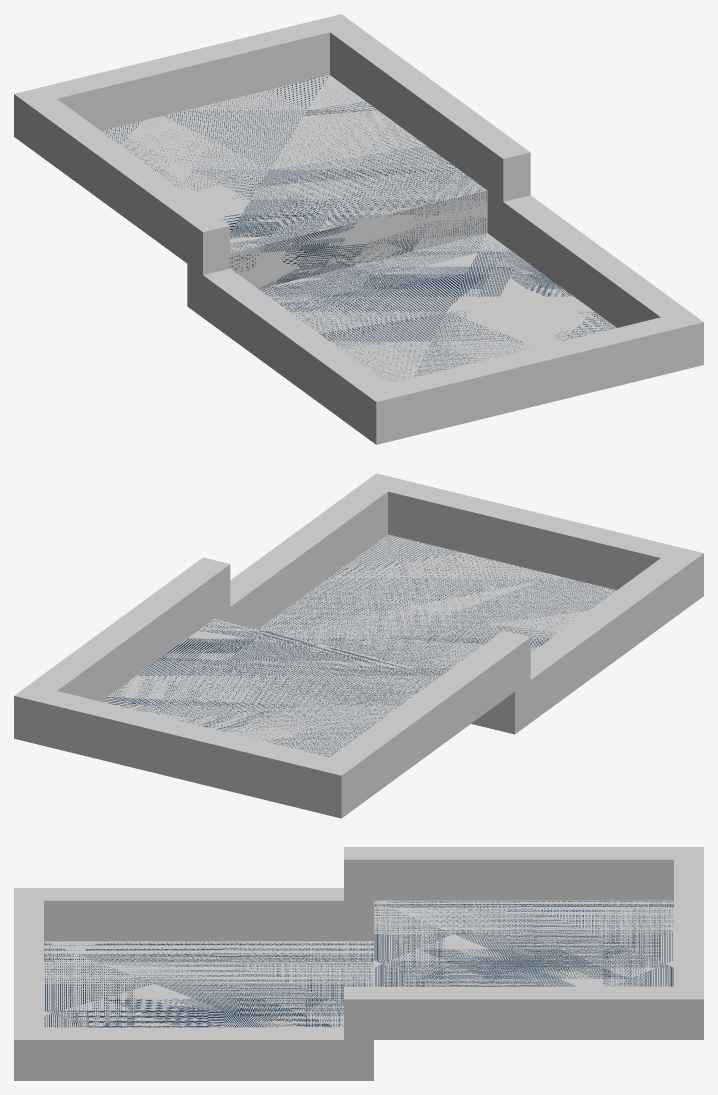
The model's file is Stage02.dae.
3 renders of one model, top to bottom at view 1: azimuth 30°, elevation 25°; view 2: azimuth 150°, elevation 25°; view 3: azimuth 270°, elevation 25°, orthographic. The views are drawn at different scales.
Parts seen in each view (by area): view 1: SketchUp (×2); view 2: SketchUp (×2); view 3: SketchUp (×2).
Boxes of the visible parts, <box> form: SketchUp (×2): <box>14,14,703,444</box>; SketchUp (×2): <box>14,473,703,818</box>; SketchUp (×2): <box>14,847,703,1080</box>.
Size of the model in its own units: 9.45 by 18.11 by 2.36.
